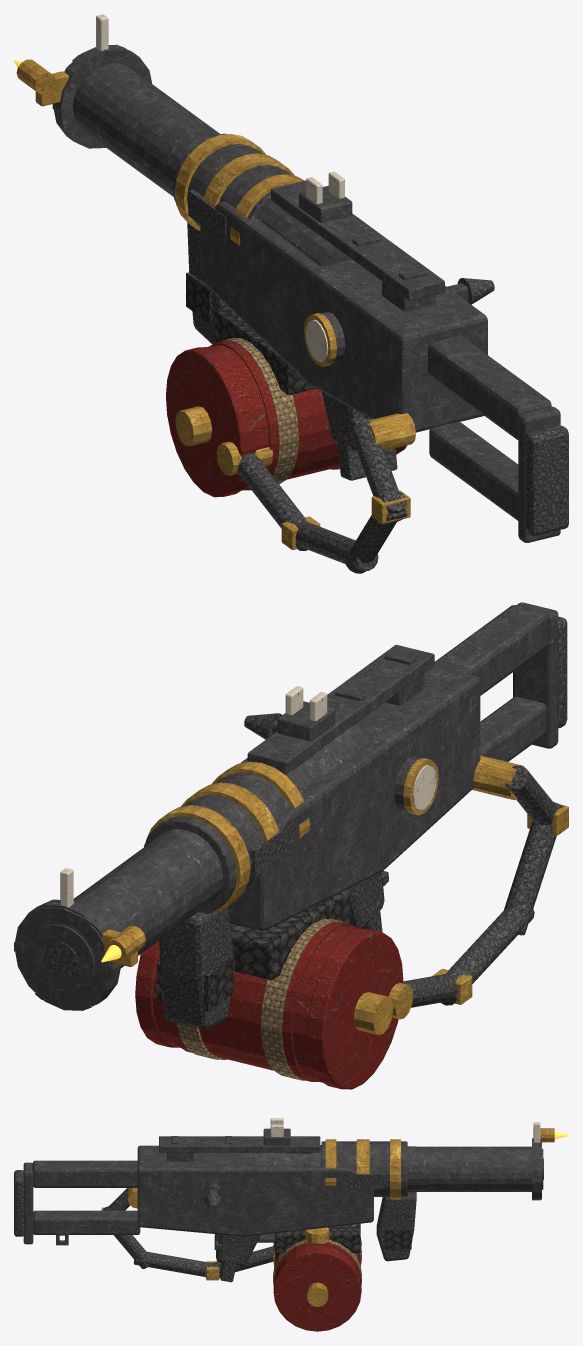
The model's file is ifrit.glb.
3 views of the same model, one above another, from view 1: azimuth 30°, elevation 25°; view 2: azimuth 150°, elevation 25°; view 3: azimuth 270°, elevation 25° (orthographic). The views are drawn at different scales.
Visible parts, largest first — view 1: body | gunmetal, body | rubber, mag | fuel red, body | brass, body | heat wrap, mag | webbing, body | cream, mag | brass; view 2: body | gunmetal, mag | fuel red, body | rubber, body | brass, body | heat wrap, mag | webbing, body | cream, mag | brass, bolt | rubber; view 3: body | gunmetal, body | rubber, mag | fuel red, body | brass, body | heat wrap, mag | brass, mag | webbing, body | cream.
Part boxes in pixels (x1=…): body | gunmetal: x1=52, y1=44, x2=560, y2=542; body | rubber: x1=187, y1=189, x2=568, y2=573; mag | fuel red: x1=166, y1=341, x2=406, y2=497; body | brass: x1=16, y1=59, x2=415, y2=549; body | heat wrap: x1=186, y1=272, x2=315, y2=394; mag | webbing: x1=220, y1=338, x2=339, y2=484; body | cream: x1=96, y1=14, x2=344, y2=361; mag | brass: x1=175, y1=406, x2=212, y2=446; body | gunmetal: x1=14, y1=602, x2=558, y2=1010; mag | fuel red: x1=135, y1=922, x2=403, y2=1089; body | rubber: x1=43, y1=616, x2=567, y2=1028; body | brass: x1=102, y1=755, x2=568, y2=1019; body | heat wrap: x1=157, y1=889, x2=350, y2=1011; mag | webbing: x1=176, y1=919, x2=344, y2=1080; body | cream: x1=60, y1=686, x2=436, y2=907; mag | brass: x1=353, y1=992, x2=393, y2=1034; bolt | rubber: x1=244, y1=713, x2=281, y2=739; body | gunmetal: x1=23, y1=1128, x2=543, y2=1245; body | rubber: x1=14, y1=1158, x2=543, y2=1282; mag | fuel red: x1=273, y1=1237, x2=361, y2=1331; body | brass: x1=101, y1=1128, x2=554, y2=1280; body | heat wrap: x1=274, y1=1223, x2=411, y2=1252; mag | brass: x1=305, y1=1227, x2=329, y2=1306; mag | webbing: x1=273, y1=1239, x2=361, y2=1285; body | cream: x1=270, y1=1118, x2=540, y2=1142.
Size of the model in its own units: 0.2715 by 0.381 by 1.03.
8 materials, 7 textured.
